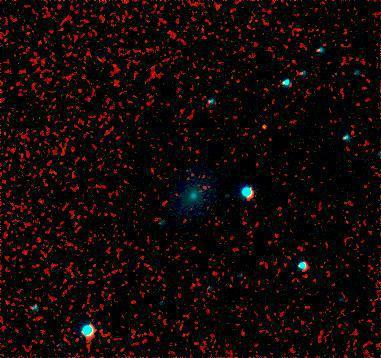star: (252, 111, 282, 141)
